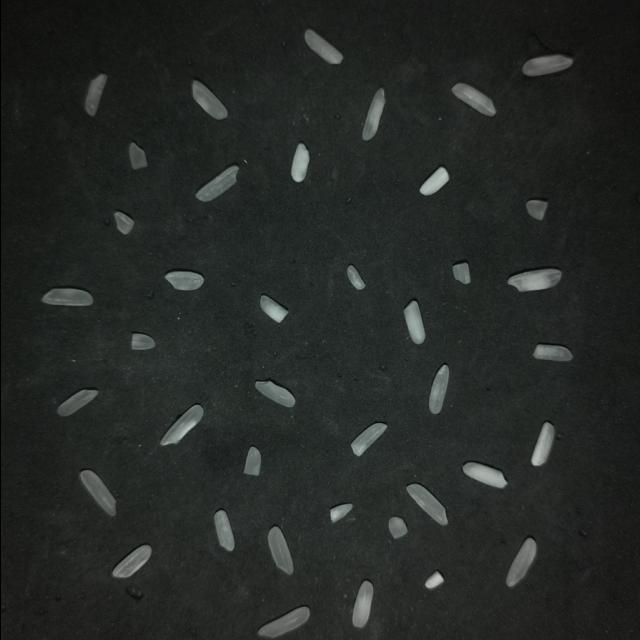broken: (254, 381, 294, 407), (291, 143, 308, 182), (532, 344, 571, 361), (128, 142, 146, 169), (243, 447, 260, 475), (113, 212, 133, 234), (525, 200, 547, 220), (346, 265, 364, 289), (329, 504, 351, 523), (452, 262, 470, 284), (388, 517, 406, 539), (131, 334, 154, 349)
chalky: (350, 423, 386, 456), (507, 269, 560, 291), (462, 462, 506, 488), (362, 88, 384, 140), (531, 422, 553, 465), (352, 580, 372, 627), (403, 300, 424, 344), (419, 167, 448, 195), (259, 295, 288, 323), (424, 571, 443, 589)
whole: (160, 405, 202, 445), (79, 470, 115, 516), (406, 484, 446, 525), (195, 165, 238, 201), (257, 607, 308, 637), (506, 538, 536, 587), (451, 84, 495, 116), (304, 29, 342, 64), (192, 80, 226, 119), (112, 545, 150, 578), (267, 526, 292, 574), (522, 54, 571, 76), (57, 390, 98, 416), (428, 365, 448, 414), (84, 74, 106, 116), (41, 289, 92, 306), (214, 510, 234, 551), (164, 271, 203, 290)
